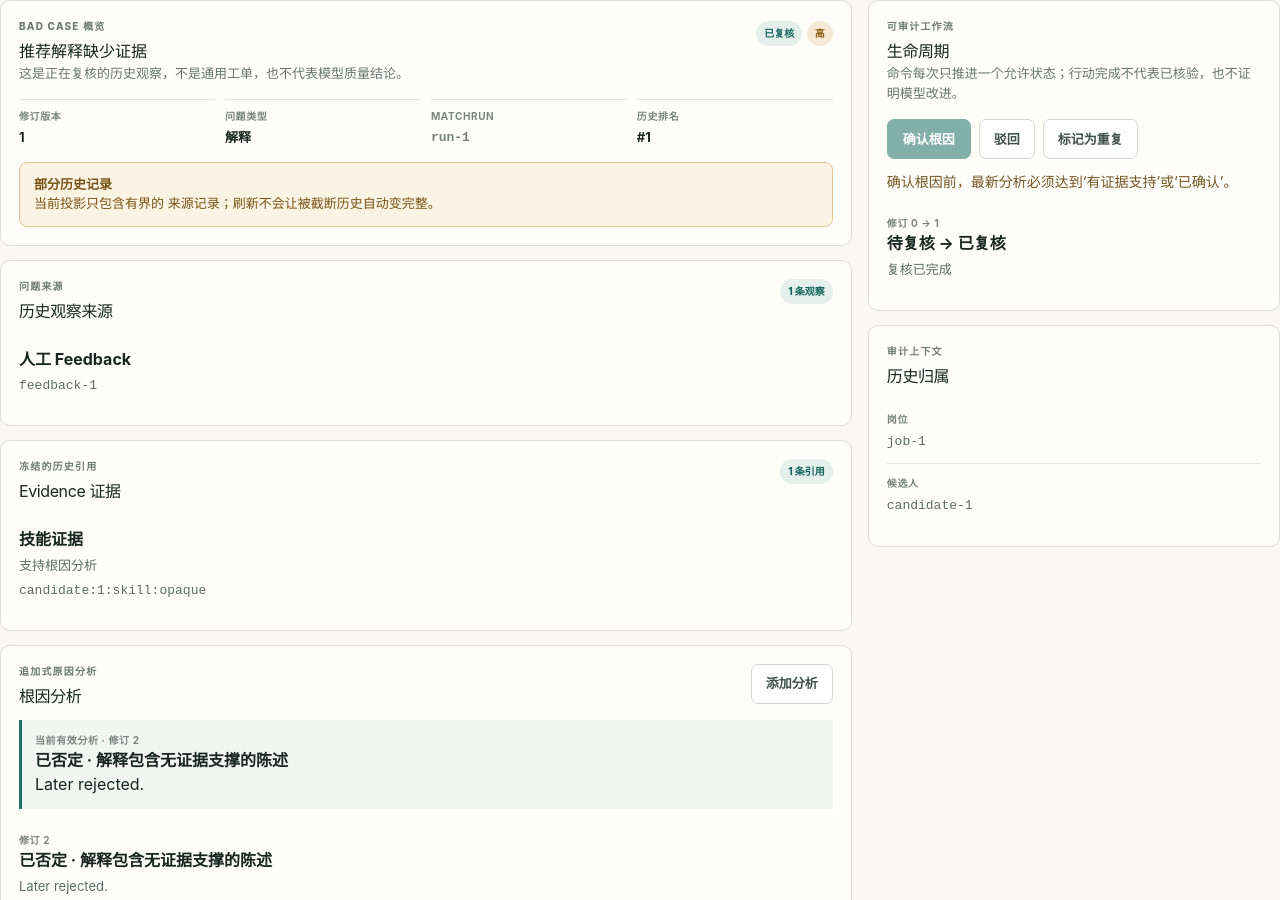
Test case: BadCase screens › does not let an older overlapping refresh replace the latest case revision
This screenshot has width=1280, height=900.
Expected: the element labelled "当前有效分析" is shown, top-left (19, 720), bottom-right (833, 809)
Click the button "添加分析".
click(792, 684)  # box top-left (751, 664), bottom-right (833, 704)
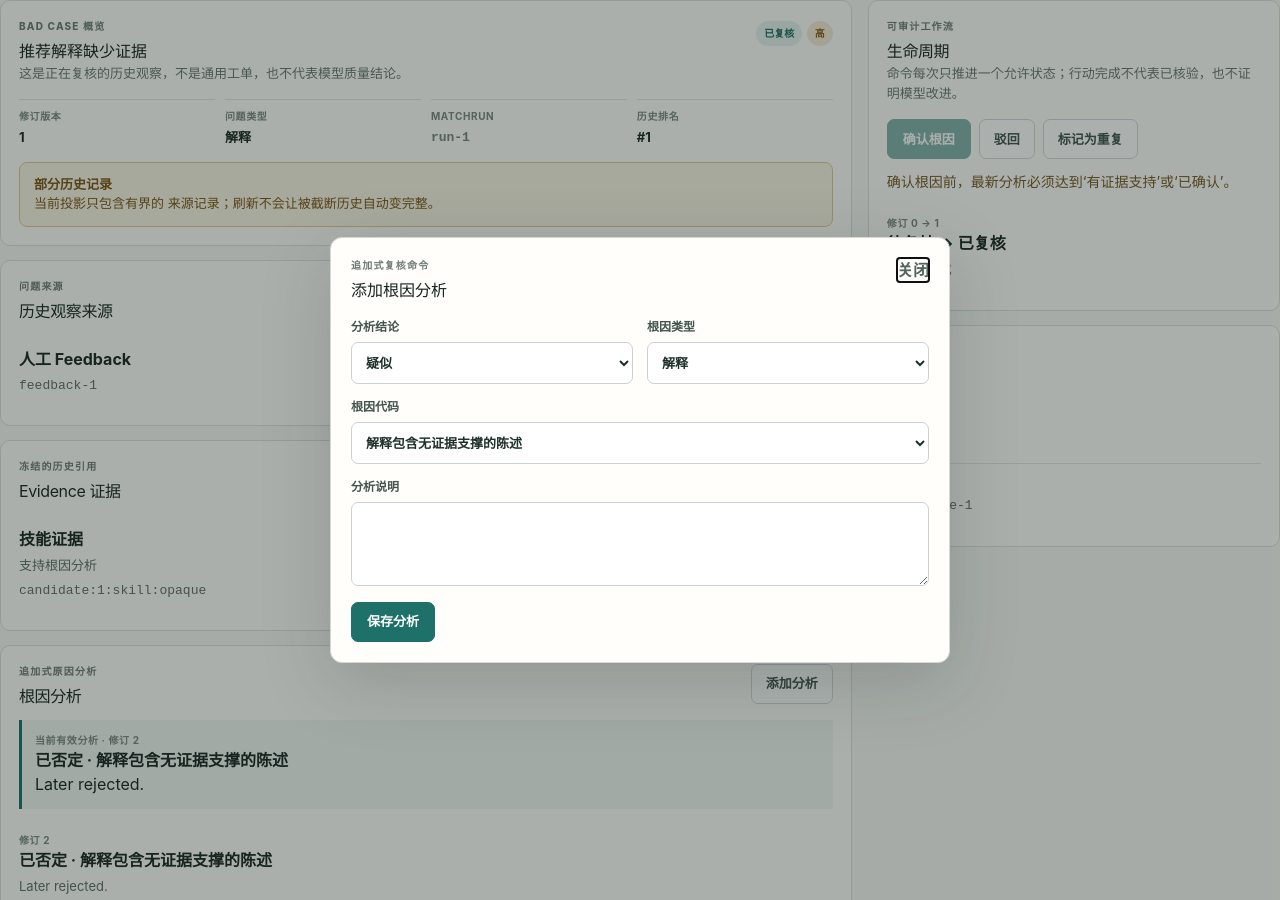
Type "New bounded assessment" into the text box labelled "分析说明".
click(640, 544); type("New bounded assessment")  # box top-left (351, 502), bottom-right (929, 586)
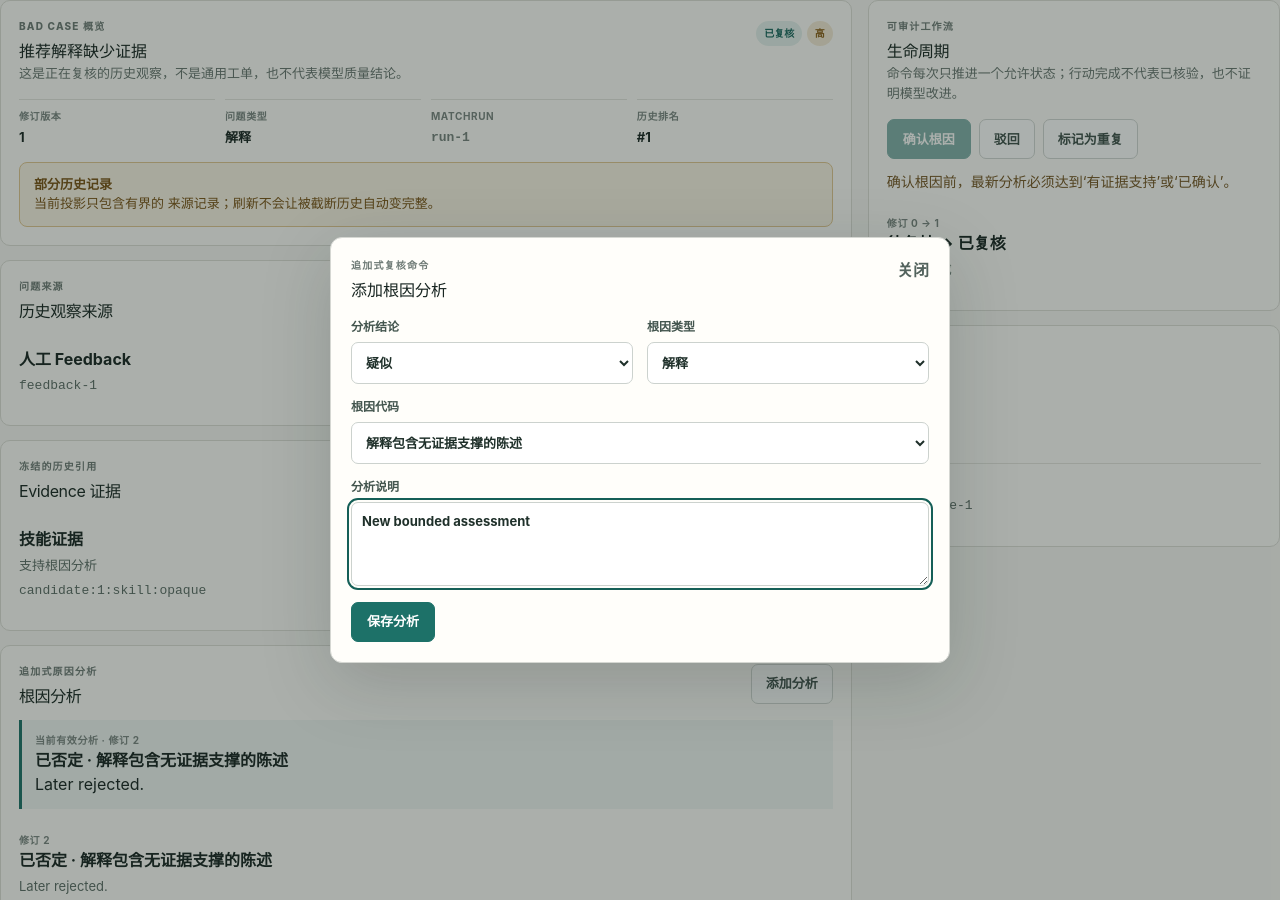
Click the button "保存分析".
click(393, 622)  # box top-left (351, 602), bottom-right (435, 642)
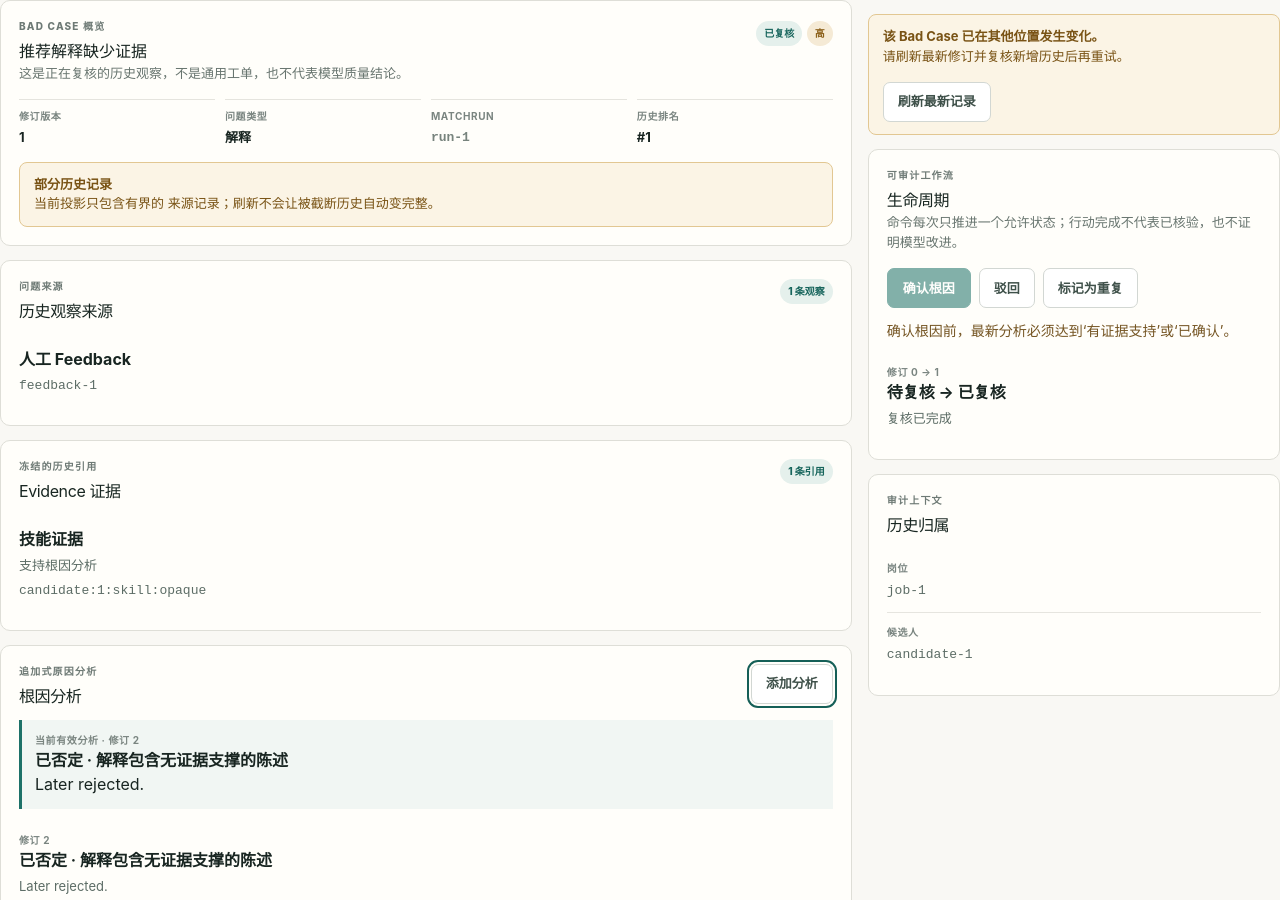
Click the button "刷新最新记录".
click(937, 102)  # box top-left (883, 82), bottom-right (991, 122)
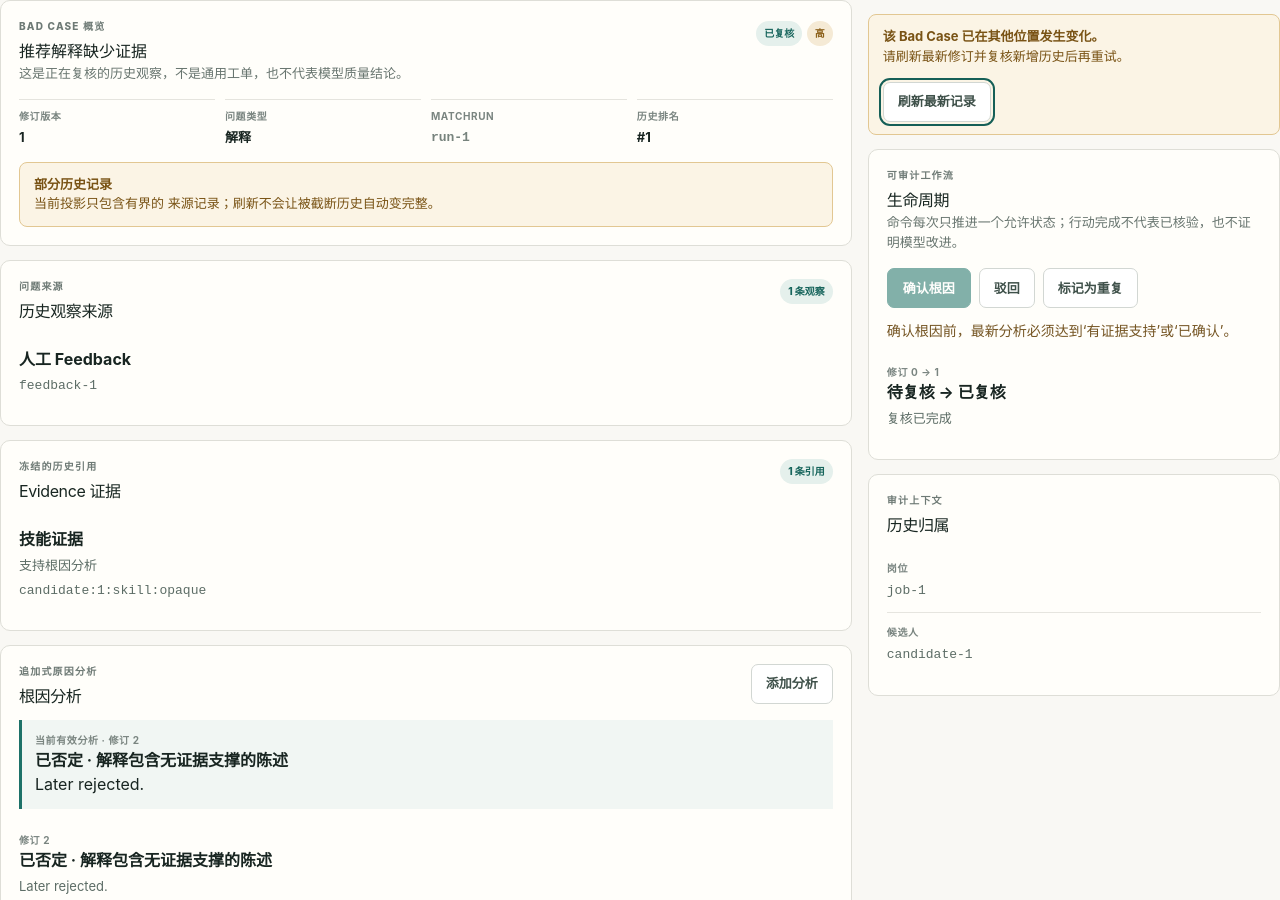
Click the button "刷新最新记录".
click(937, 102)  # box top-left (883, 82), bottom-right (991, 122)
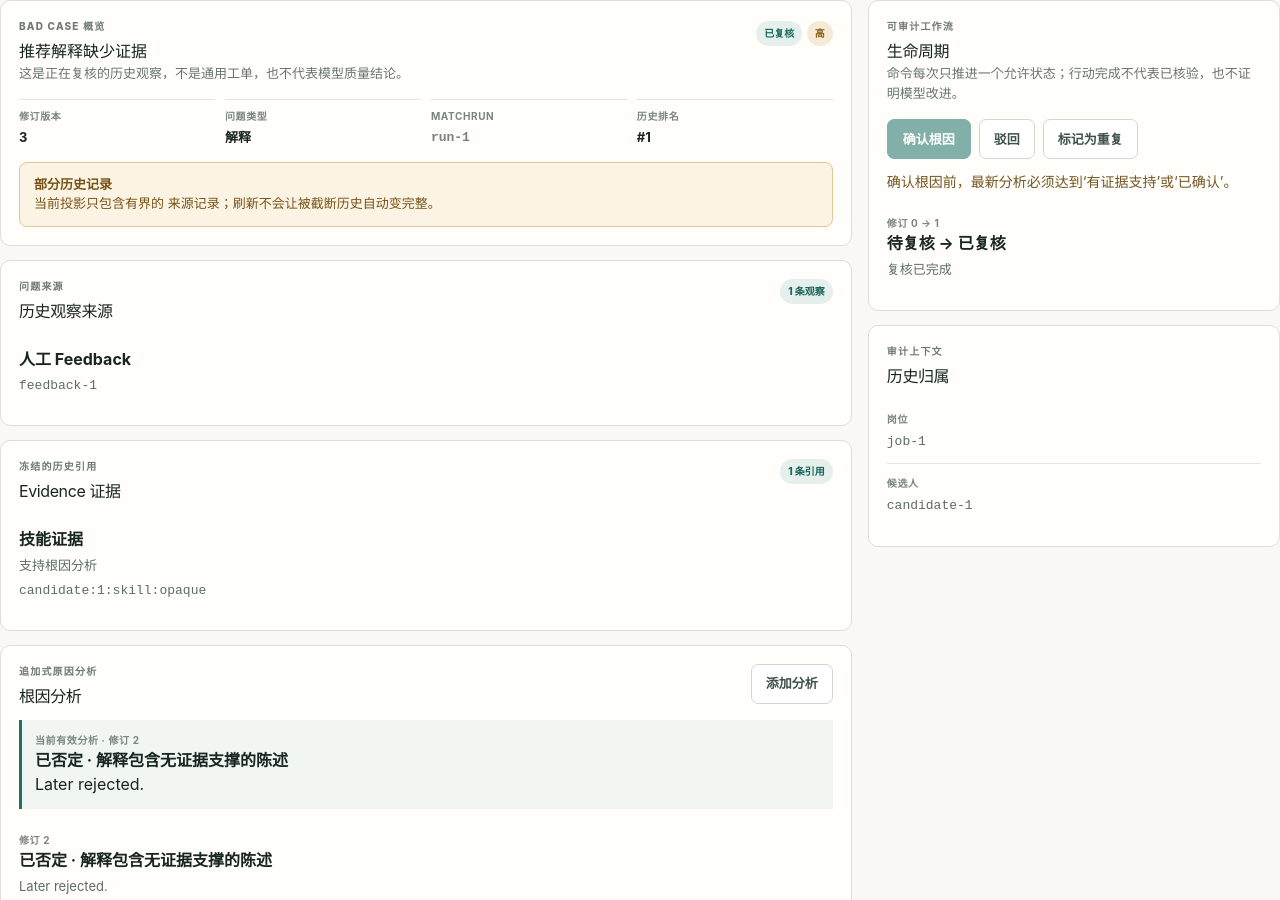
Expected: the text "3" is shown, top-left (19, 129), bottom-right (27, 145)
